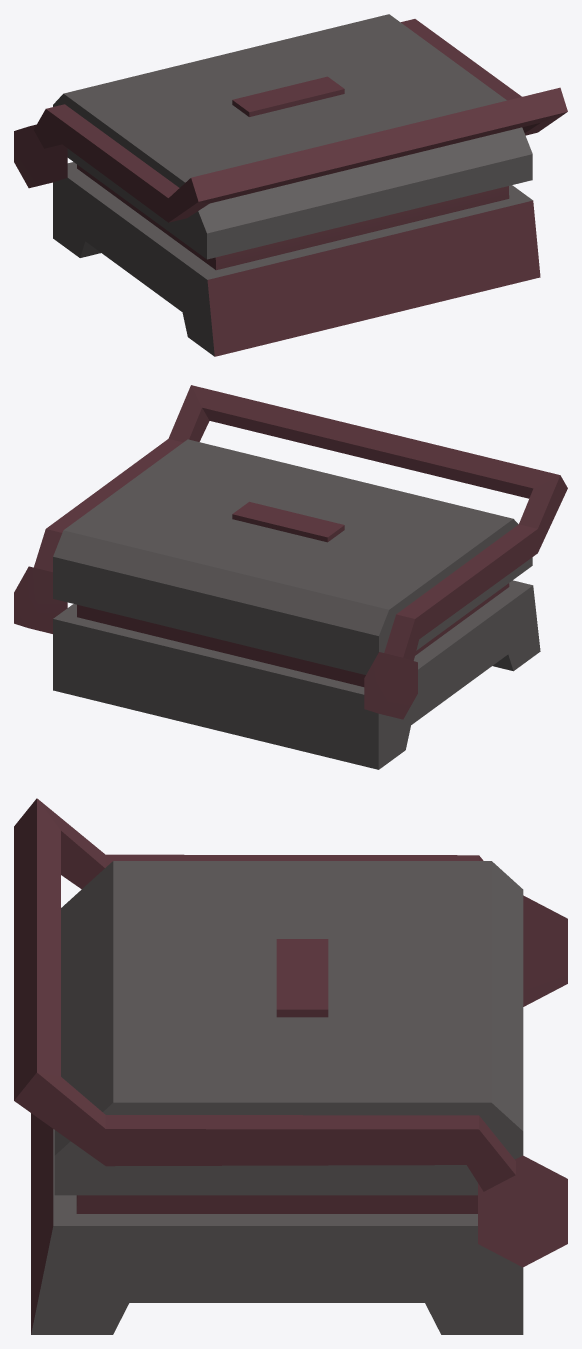
The model's file is small-grill-simple.fbx.
3 renders of one model, top to bottom at view 1: azimuth 30°, elevation 25°; view 2: azimuth 150°, elevation 25°; view 3: azimuth 270°, elevation 25°, orthographic. The views are drawn at different scales.
Parts seen in each view (by area): view 1: small-grill-simple; view 2: small-grill-simple; view 3: small-grill-simple.
Boxes of the visible parts, <box> form: small-grill-simple: <box>14,14,567,356</box>; small-grill-simple: <box>14,385,567,769</box>; small-grill-simple: <box>14,798,567,1334</box>.
Bounding box in the file's own units: 0.4692 × 0.2192 × 0.395.
